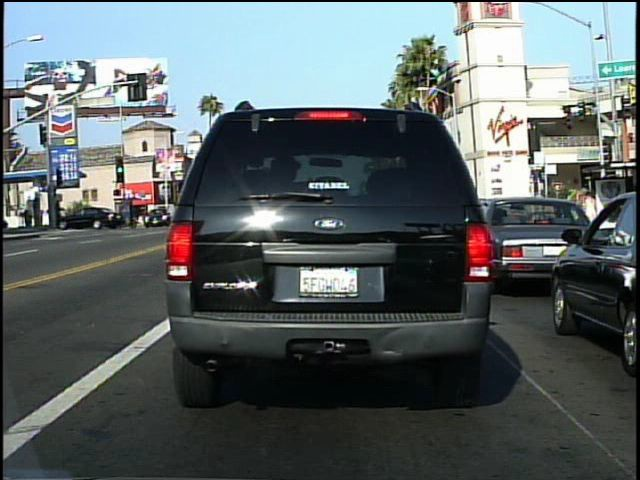person: (580, 188, 602, 245)
